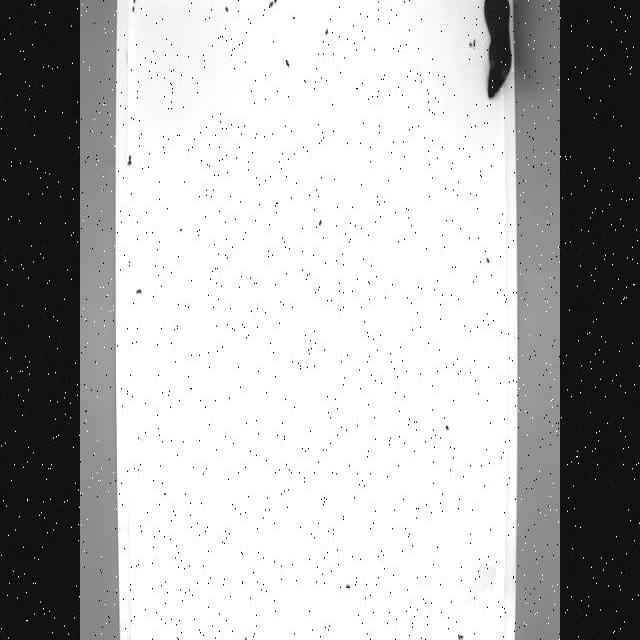rat: (435, 0, 512, 109)
